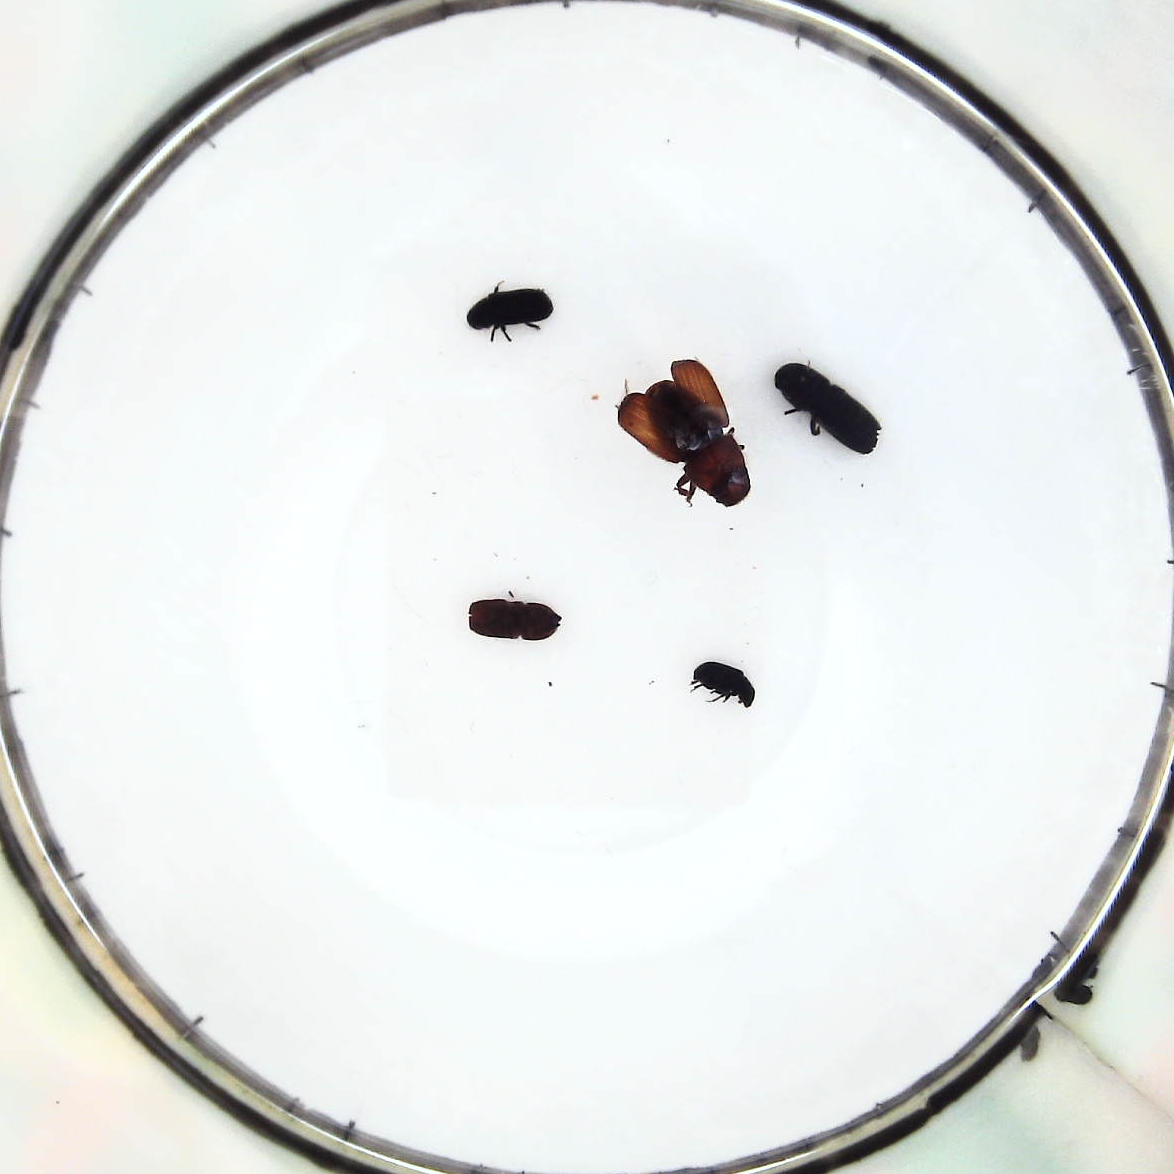Boerner: (777, 355, 884, 450)
Leconte: (609, 357, 760, 503)
Linnaeus: (469, 591, 557, 647)
armandi: (466, 280, 555, 335)
coleoptera: (689, 667, 762, 701)
